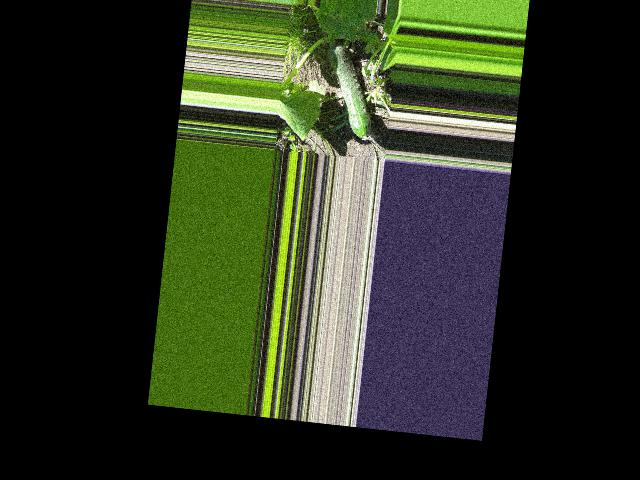cucumber: (319, 42, 379, 140)
